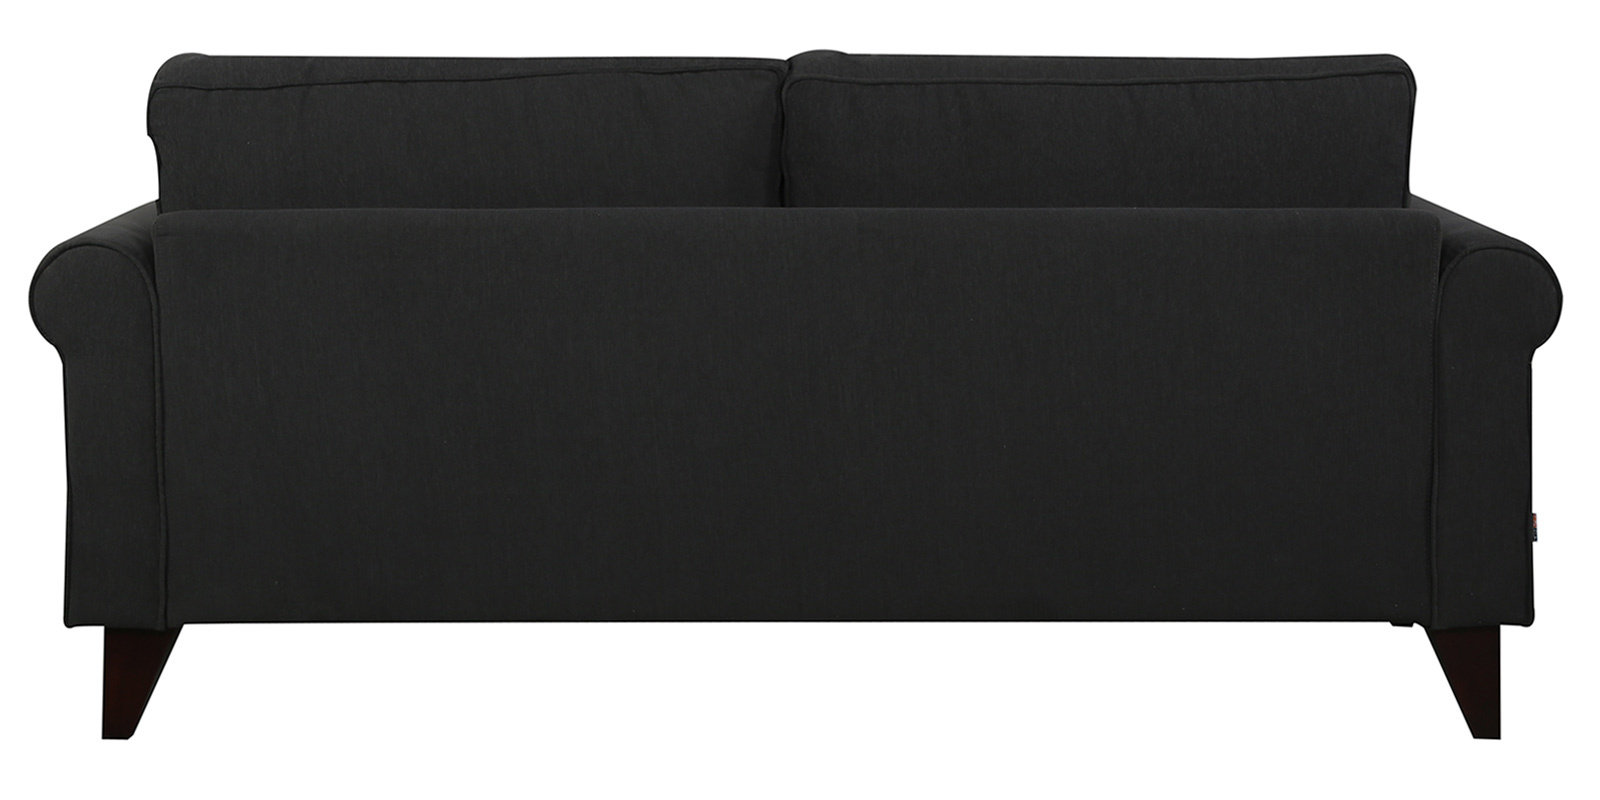Fuego Three Seater Sofa in Charcoal Grey Colour by CasaCraft: (21, 32, 1547, 751)
